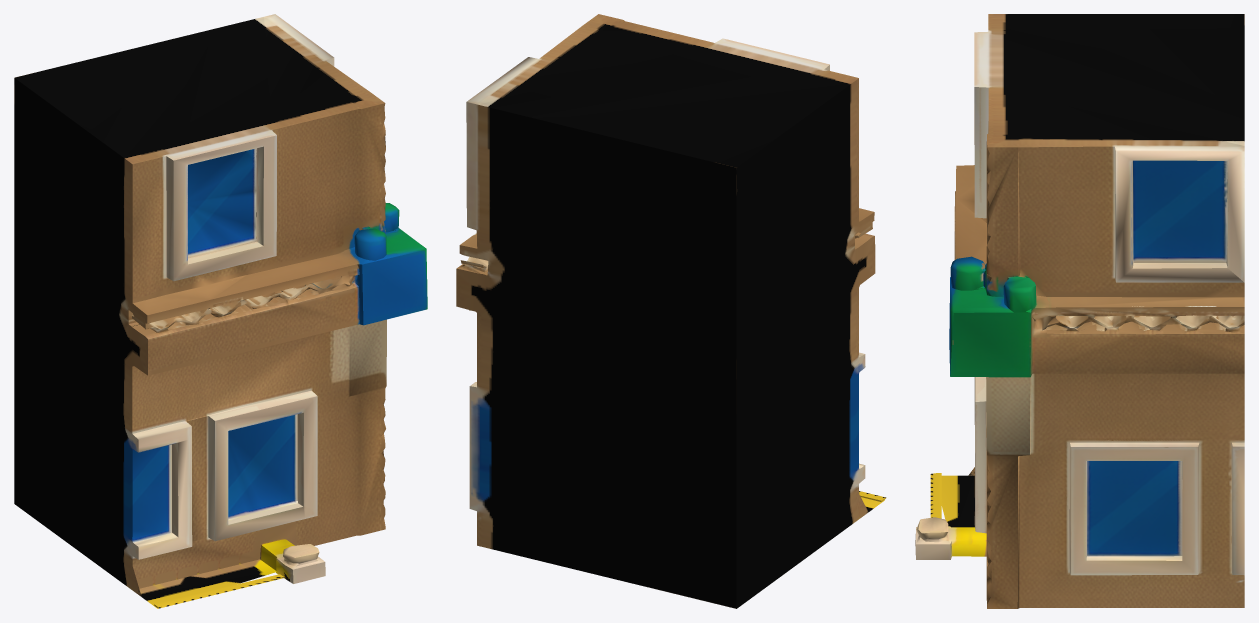
File: 6-upper-walls-front-right.fbx
The picture shows the model from 3 angles, left to right: view 1: azimuth 30°, elevation 25°; view 2: azimuth 150°, elevation 25°; view 3: azimuth 270°, elevation 25°; orthographic projection. The views are drawn at different scales.
Visible parts, largest first — view 1: upper-walls-front-right; view 2: upper-walls-front-right; view 3: upper-walls-front-right.
Part boxes in pixels (x1=…): upper-walls-front-right: x1=14, y1=14, x2=427, y2=608; upper-walls-front-right: x1=456, y1=14, x2=886, y2=608; upper-walls-front-right: x1=915, y1=14, x2=1244, y2=608.
Bounding box in the file's own units: 5128 × 7482 × 4838.
Materials: 1 (1 with a texture image).
